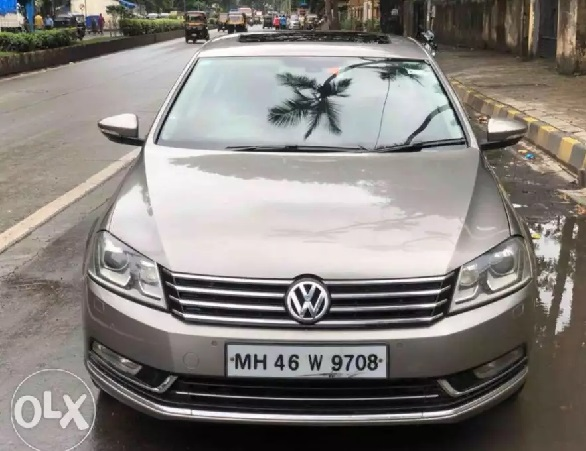licenseplate: (225, 341, 389, 384)
